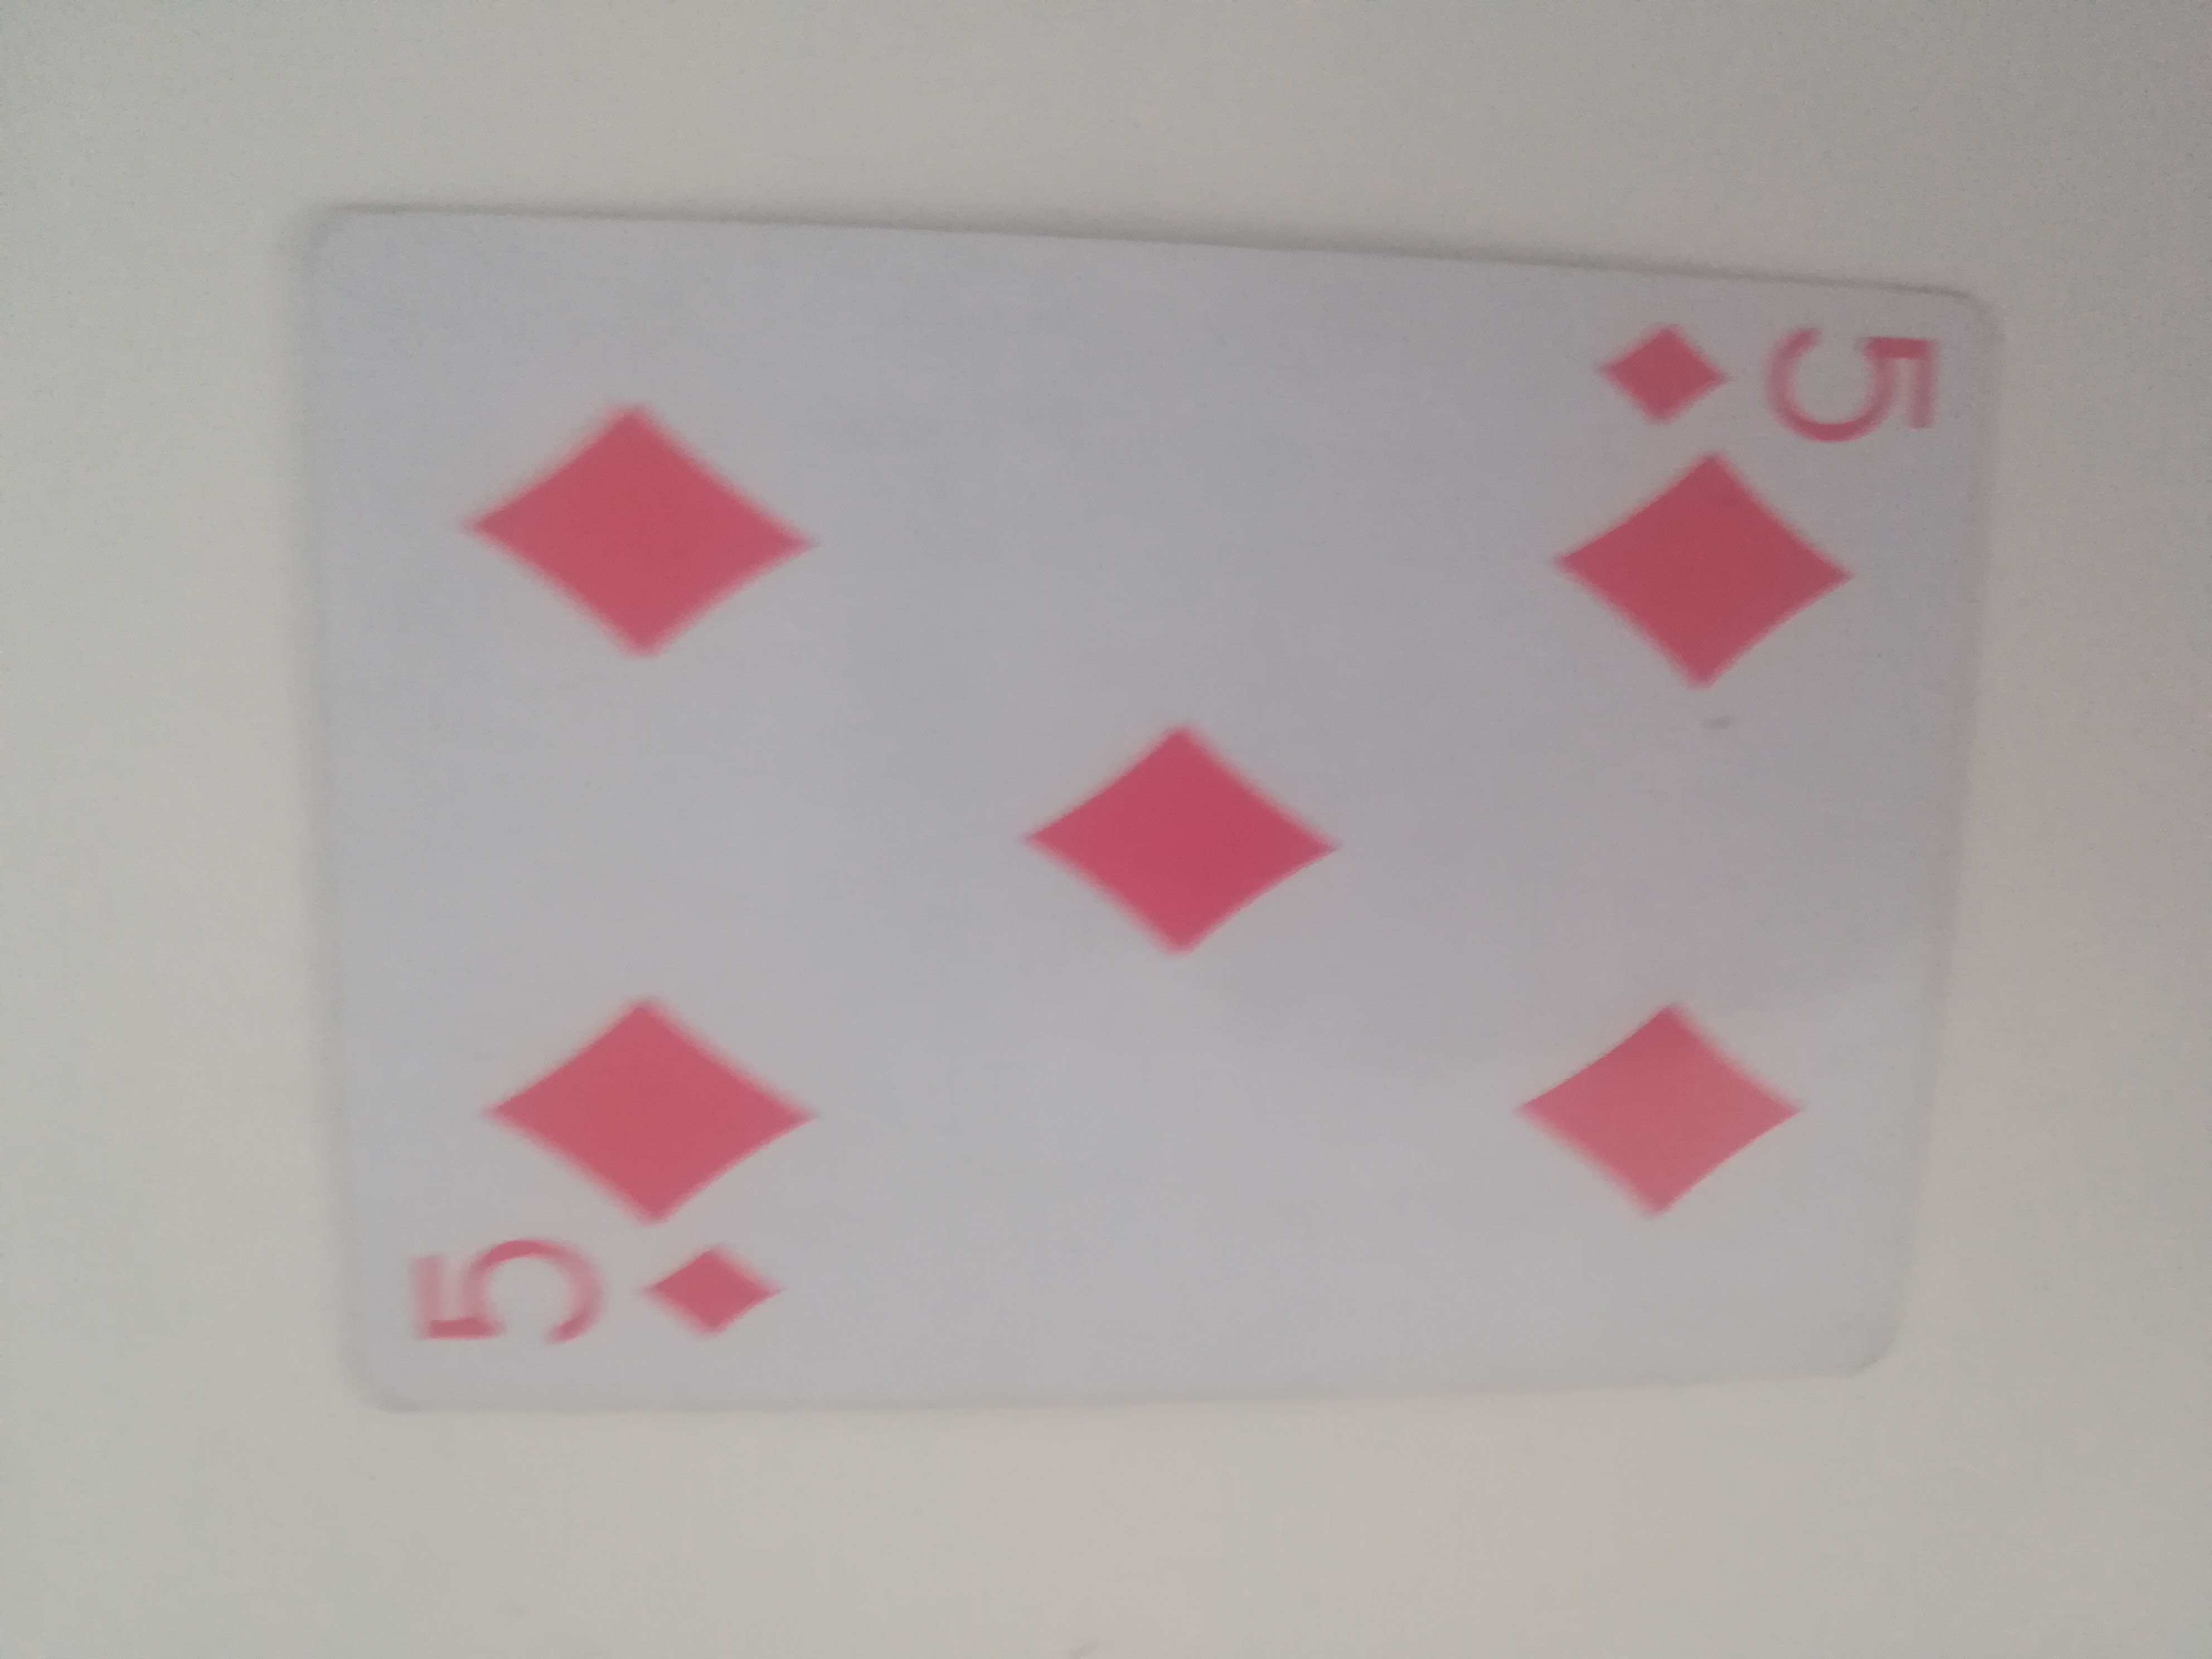5D: (300, 221, 2041, 1443)
